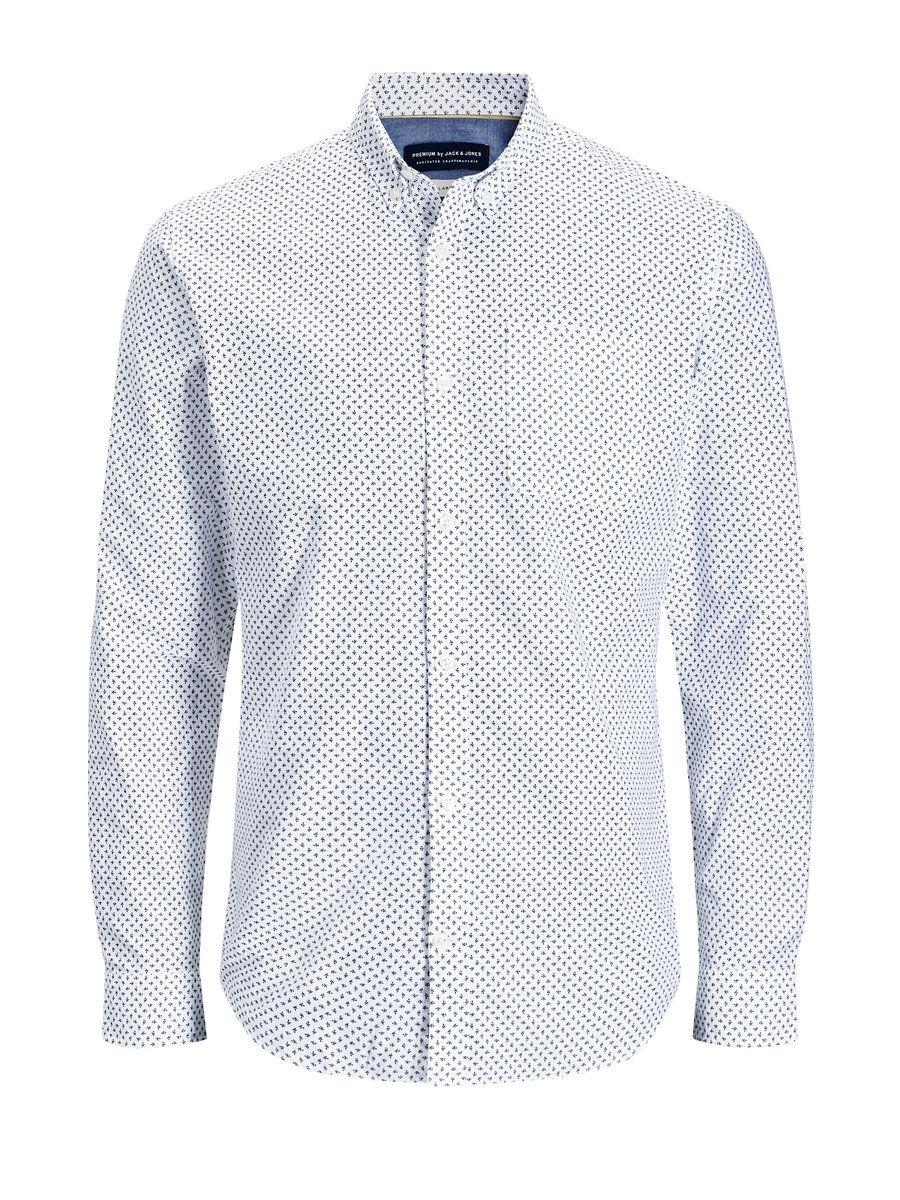teeshirt: (76, 58, 827, 1074)
